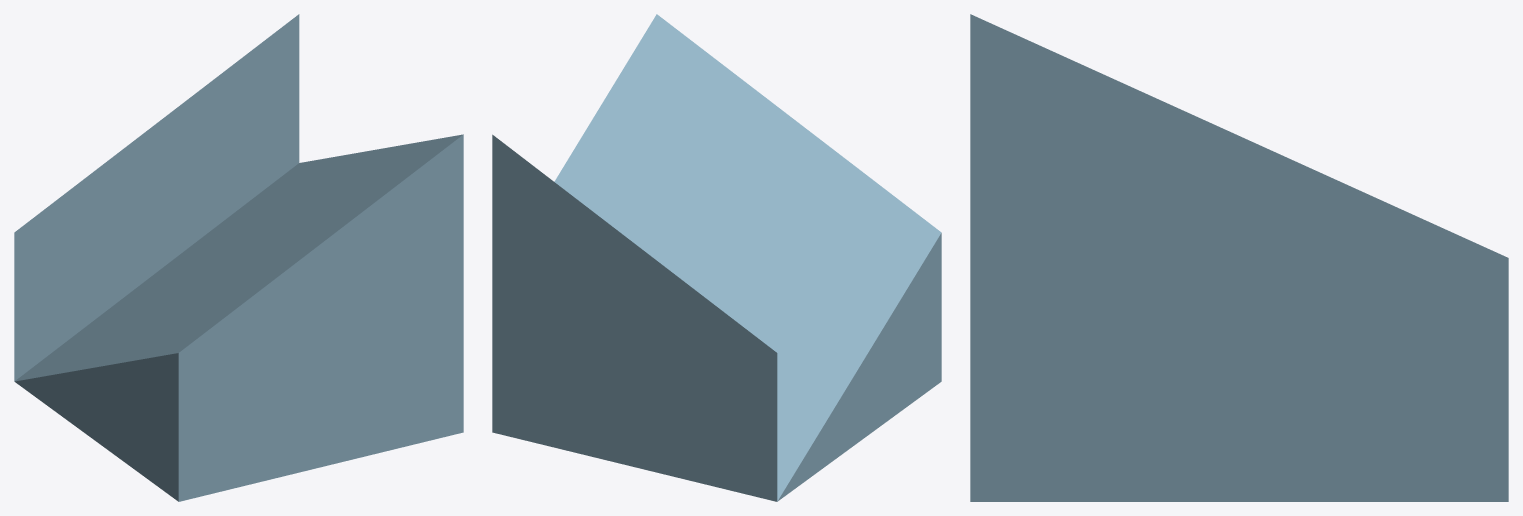
The model's file is Conveyor_Corner.glb.
3 views of the same model, side by side, from view 1: azimuth 30°, elevation 25°; view 2: azimuth 150°, elevation 25°; view 3: azimuth 270°, elevation 25° (orthographic). The views are drawn at different scales.
Visible parts, largest first — view 1: Conveyor_Corner_body; view 2: Conveyor_Corner_body; view 3: Conveyor_Corner_body.
Boxes of the visible parts, bbox=[...] form: Conveyor_Corner_body: bbox=[14, 14, 463, 501]; Conveyor_Corner_body: bbox=[492, 14, 941, 501]; Conveyor_Corner_body: bbox=[970, 14, 1508, 501].
Size of the model in its own units: 1 by 1 by 1.
